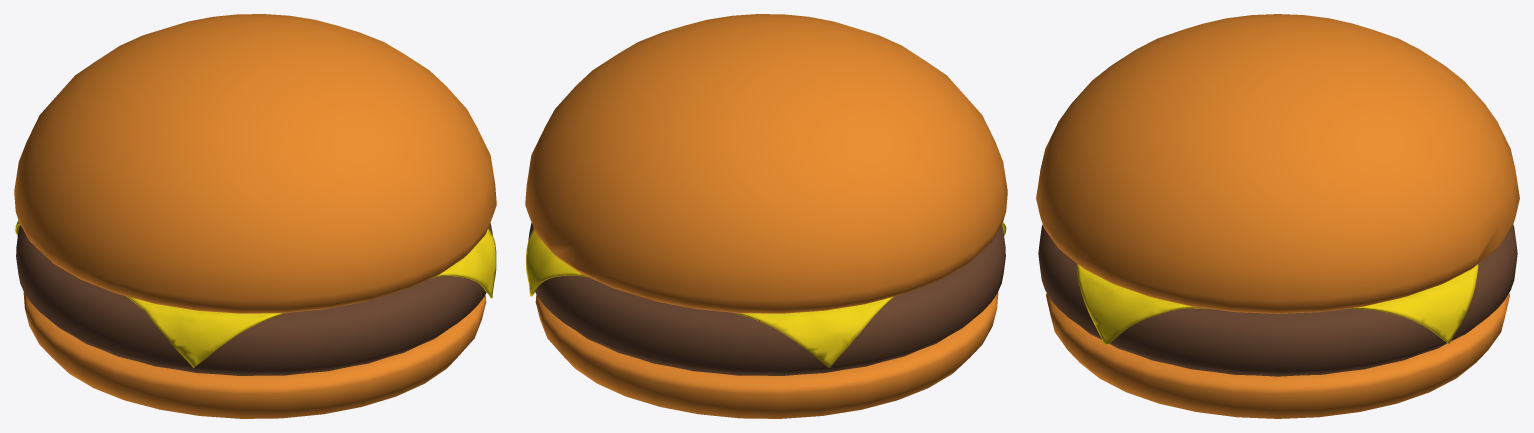
The picture shows the model from 3 angles, left to right: view 1: azimuth 30°, elevation 25°; view 2: azimuth 150°, elevation 25°; view 3: azimuth 270°, elevation 25°; orthographic projection.
Parts seen in each view (by area): view 1: Top_2, Meal_4, Bottom_3, Plane_5; view 2: Top_2, Meal_4, Bottom_3, Plane_5; view 3: Top_2, Meal_4, Bottom_3, Plane_5.
Part boxes in pixels (x1,y1,x2,y2): Top_2: (14, 14, 496, 313); Meal_4: (16, 223, 492, 375); Bottom_3: (23, 292, 486, 418); Plane_5: (15, 220, 496, 367); Top_2: (525, 14, 1007, 313); Meal_4: (528, 223, 1005, 375); Bottom_3: (535, 292, 998, 418); Plane_5: (526, 222, 1006, 367); Top_2: (1036, 14, 1519, 313); Meal_4: (1038, 224, 1517, 376); Bottom_3: (1046, 293, 1509, 418); Plane_5: (1076, 263, 1478, 345).
Bounding box in the file's own units: 0.2188 × 0.1539 × 0.2188.
